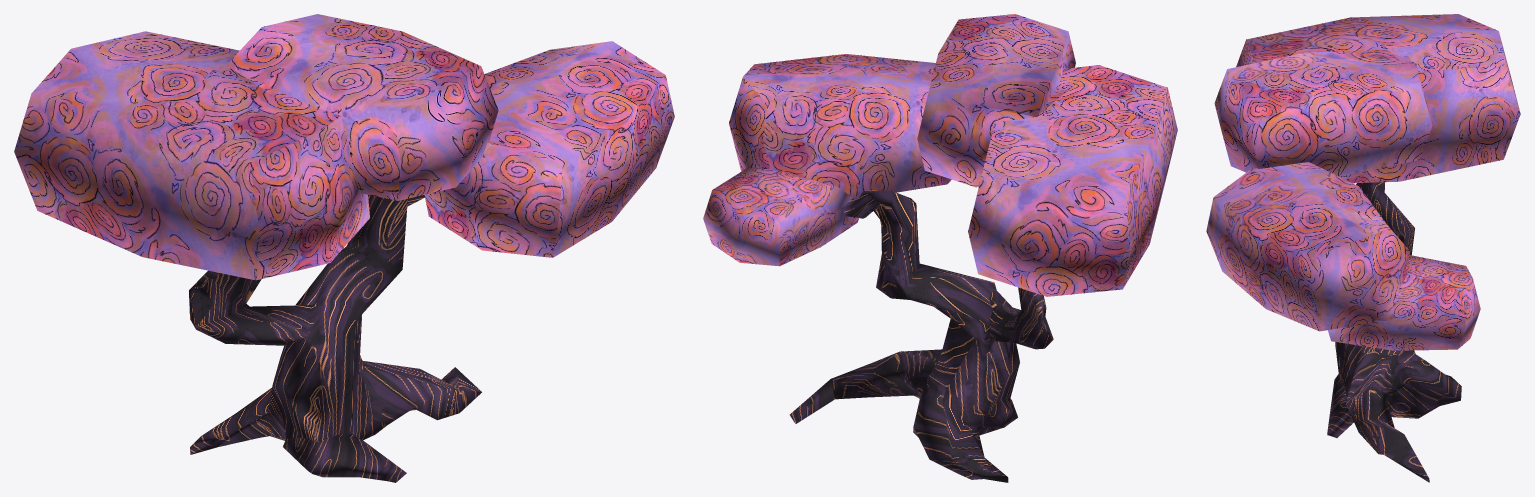
The model's file is polygonalmind-momuspark-057.glb.
3 views of the same model, side by side, from view 1: azimuth 30°, elevation 25°; view 2: azimuth 150°, elevation 25°; view 3: azimuth 270°, elevation 25° (orthographic). The views are drawn at different scales.
Visible parts, largest first — view 1: Tree_01_Art; view 2: Tree_01_Art; view 3: Tree_01_Art.
Part boxes in pixels (<box>): Tree_01_Art: <box>14,14,674,482</box>; Tree_01_Art: <box>703,14,1177,482</box>; Tree_01_Art: <box>1206,14,1520,482</box>.
Size of what is drawn, in the model's own units: 15.93 by 12.1 by 9.75.
Materials: 2 (2 with a texture image).
